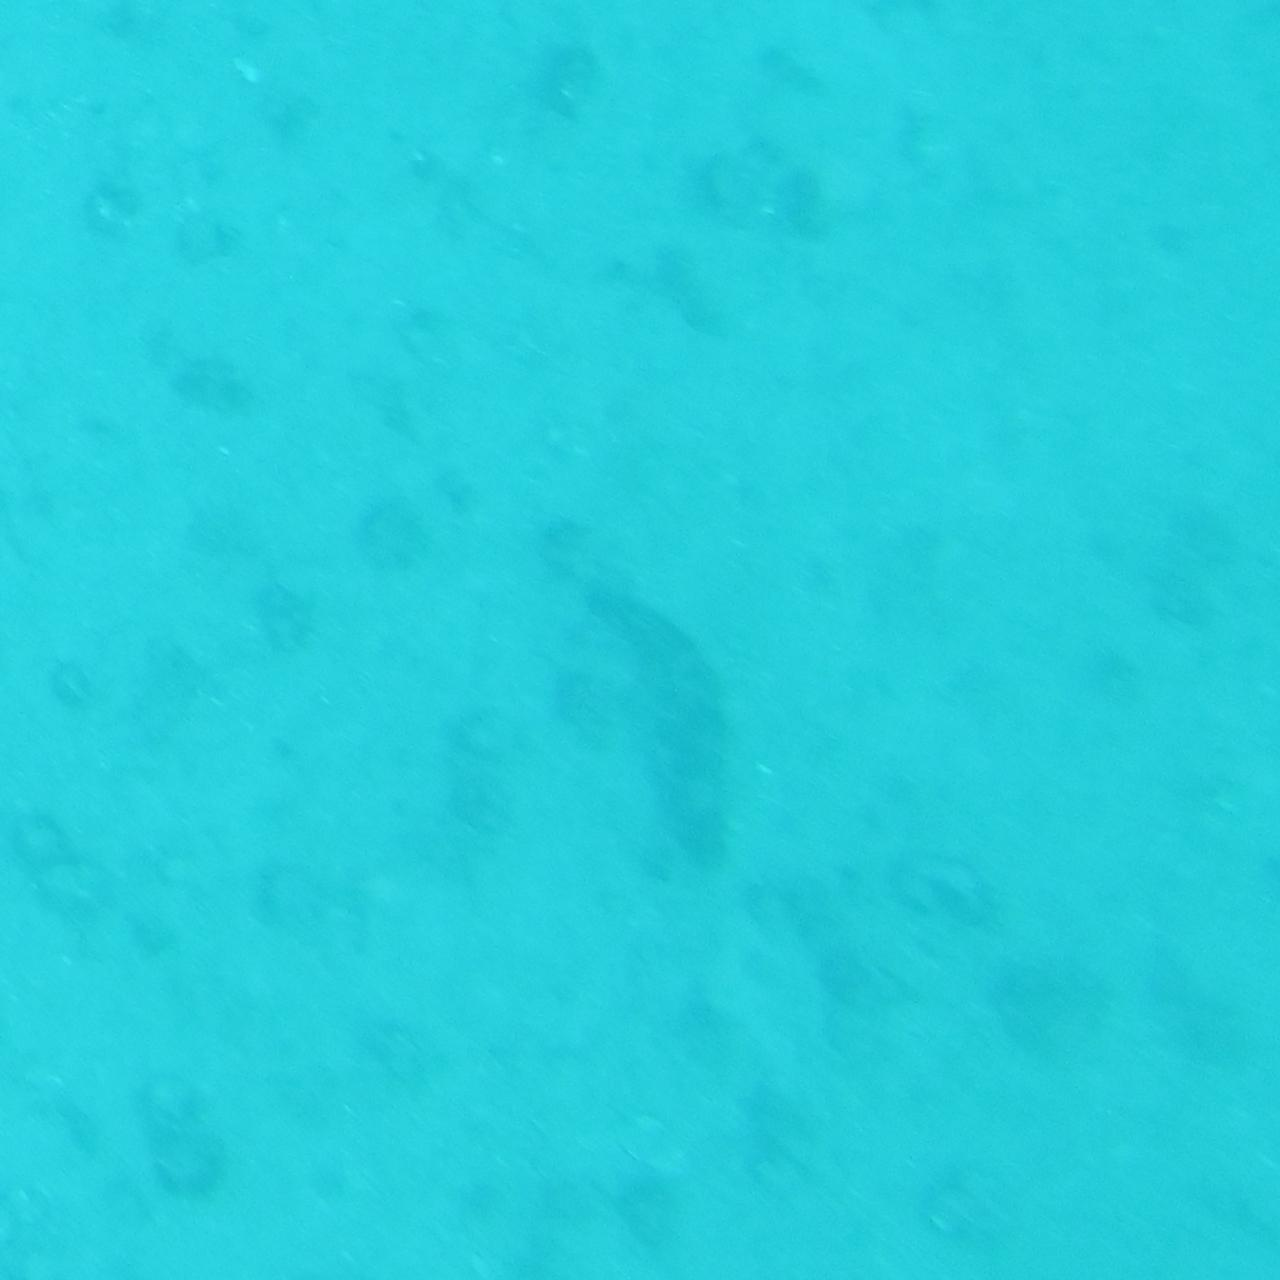Holothuria tubulosa: (559, 557, 733, 890)
